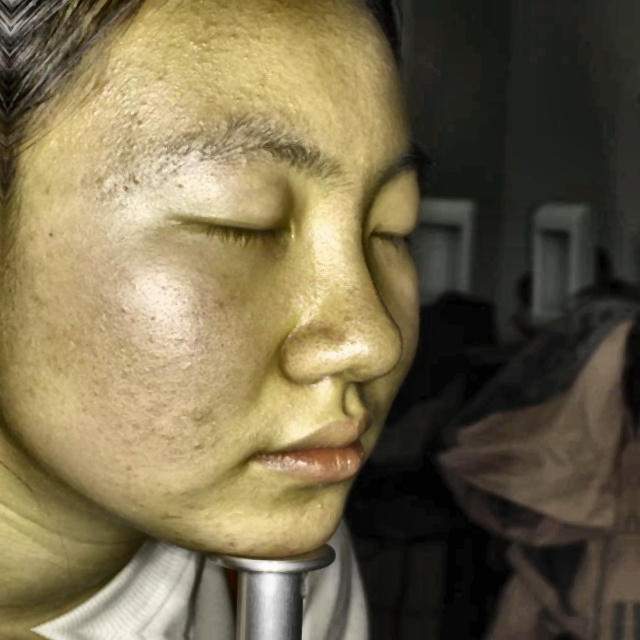comedone: (310, 497, 331, 512)
